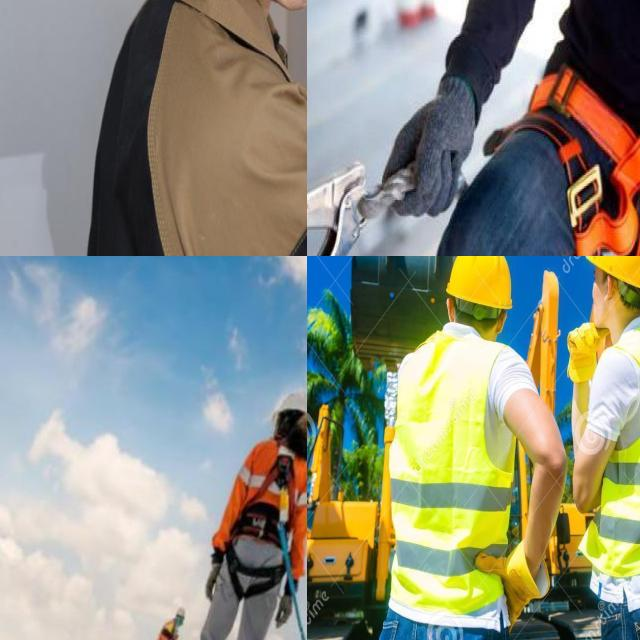Harness: (520, 67, 640, 256), (234, 454, 295, 546)
No_Ear-Protection: (602, 273, 616, 303), (443, 295, 457, 324), (496, 308, 509, 337)
face_nomask: (579, 265, 624, 327)
hand_glove: (475, 544, 552, 628), (564, 325, 607, 388)
head_helmet: (445, 256, 516, 310), (585, 256, 640, 294)
person: (398, 256, 539, 640), (575, 256, 640, 640)
vest: (400, 339, 504, 613), (620, 333, 640, 574)
